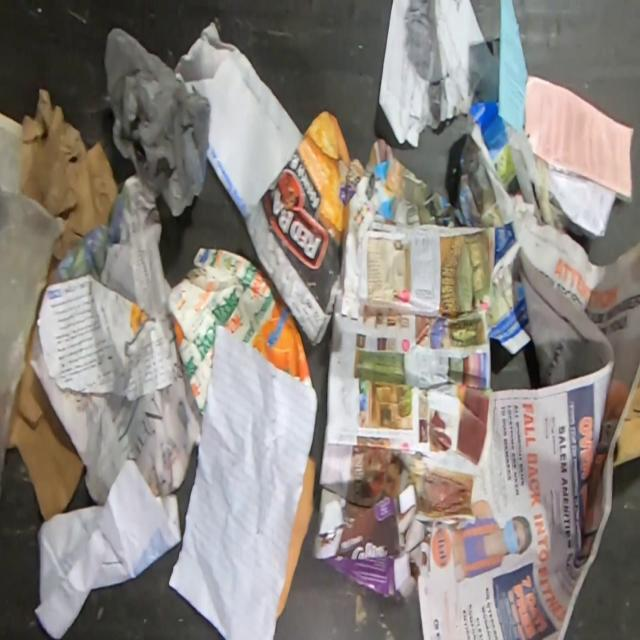cardboard: (166, 247, 316, 419), (17, 86, 120, 274), (8, 361, 85, 524), (275, 455, 315, 624), (613, 383, 640, 469)
soft_plastic: (104, 29, 208, 216), (0, 189, 58, 485)
